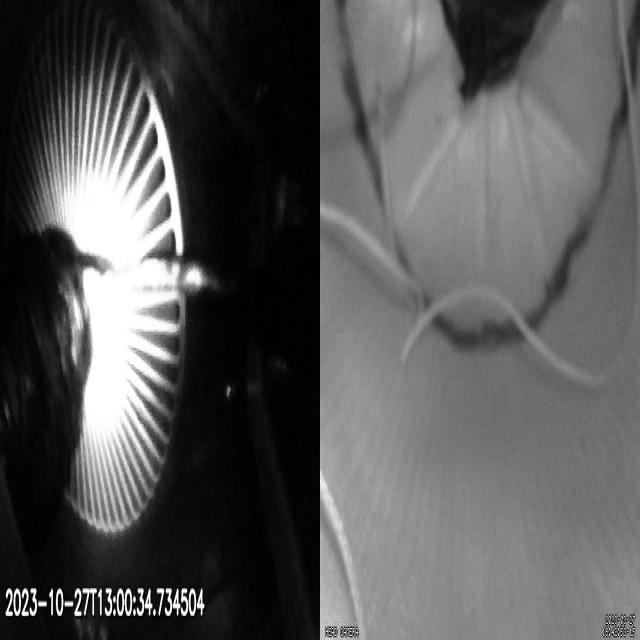red-circle: (333, 0, 640, 358)
